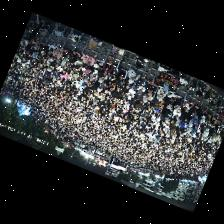person: (116, 55, 128, 79), (52, 44, 67, 60), (173, 99, 182, 120), (82, 53, 95, 67), (68, 49, 82, 62), (103, 57, 113, 75), (145, 81, 157, 95), (165, 92, 179, 103), (75, 78, 85, 93), (165, 104, 173, 122), (157, 87, 168, 100), (129, 69, 140, 82), (185, 117, 195, 131), (107, 70, 116, 85), (196, 107, 207, 119), (183, 100, 195, 111), (142, 102, 149, 120), (135, 76, 145, 88), (115, 79, 125, 91), (193, 112, 200, 129), (127, 85, 136, 98), (48, 42, 57, 55), (117, 86, 128, 96), (70, 64, 81, 74), (143, 91, 154, 101), (154, 96, 164, 107), (136, 101, 145, 113), (129, 95, 138, 107), (38, 42, 50, 51), (137, 82, 145, 95), (90, 67, 98, 80), (200, 115, 206, 132), (125, 77, 134, 88), (75, 58, 84, 68), (188, 106, 196, 117), (181, 121, 189, 132), (61, 56, 68, 68), (56, 56, 64, 66), (170, 122, 176, 134), (21, 38, 29, 47), (123, 100, 129, 112), (203, 128, 209, 140), (94, 59, 103, 67), (60, 73, 68, 81), (99, 75, 108, 82), (216, 120, 223, 129), (176, 119, 181, 130), (138, 95, 144, 104), (35, 38, 40, 48)
